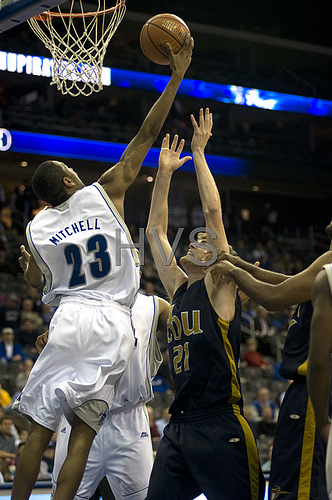basketball: (139, 13, 190, 66)
